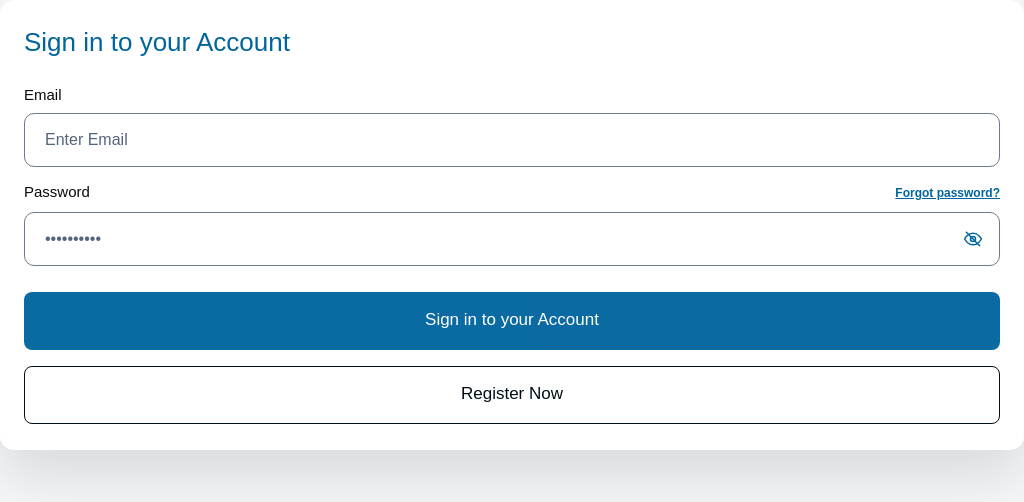
Scenario: HomeSignIn component › shows appropriate recovery guidance in mock mode true
Click the button "Forgot password?" at (948, 193), box x1=895 y1=185 x2=1000 y2=202
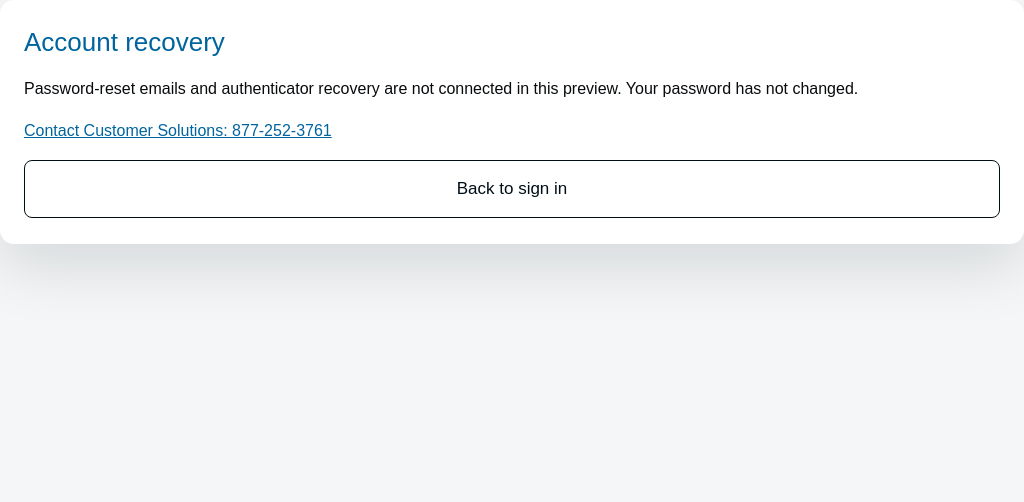
Expected: the heading "Account recovery" is shown, x1=24 y1=27 x2=225 y2=57
Expected: the text "not connected in this preview" is shown, x1=24 y1=80 x2=858 y2=97
Click the button "Back to sign in" at (512, 189), box x1=24 y1=160 x2=1000 y2=218
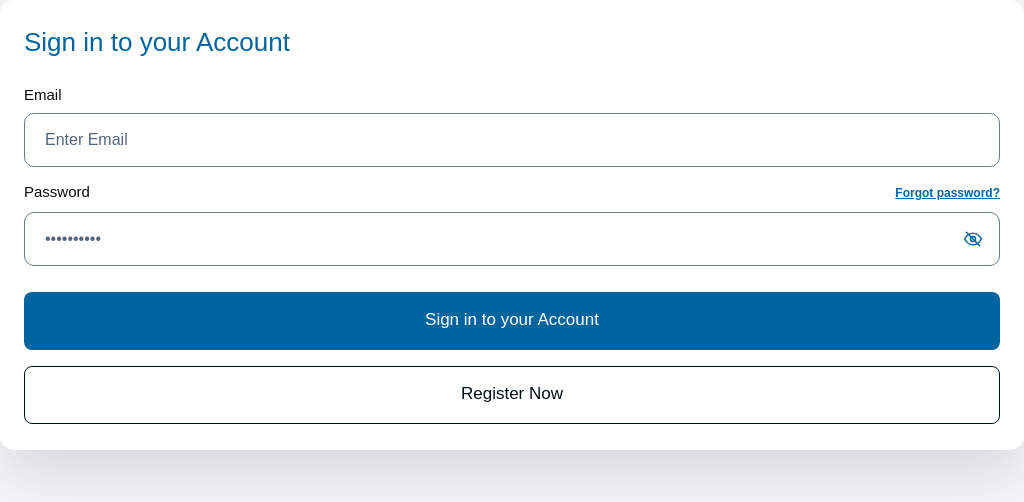
Expected: the password field labelled "Password" is shown, x1=24 y1=212 x2=1000 y2=266
